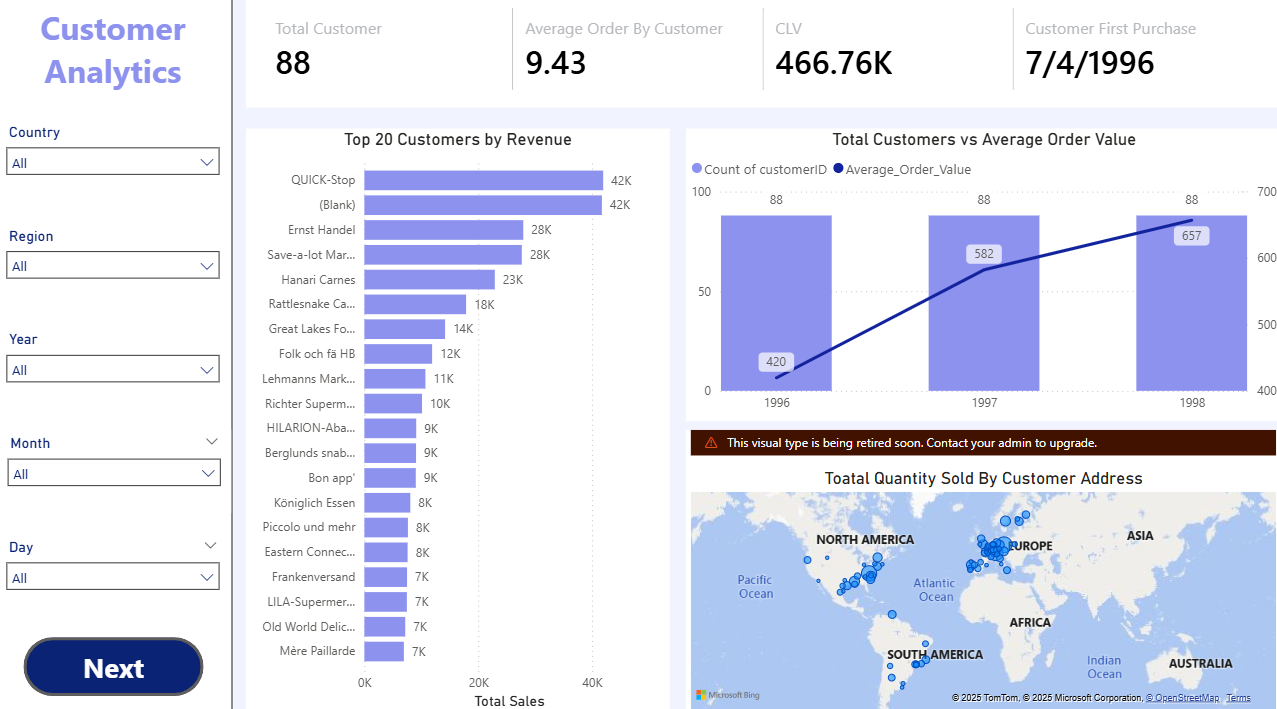

The page's visual inventory and layout, read from the dashboard file:
{"tool":"powerbi","page":{"name":"Page 2","canvas":[1280,720],"ordinal":1},"visuals":[{"type":"cardVisual","fields":{"Data":["Dax Sales.Total Customer","Dax Customer.Average_Order_By_Customer","Dax Customer.CLV","Dax Customer.Customer First Purchase"]},"box":[248.8,0,1031.2,115.7],"z":0},{"type":"shape","box":[2.5,0,232.6,720.3],"z":1000},{"type":"textbox","box":[0,10,232.6,95.8],"z":2000},{"type":"slicer","fields":{"Values":["Dim Customers.country"]},"box":[0,126.9,232.6,82.1],"z":3000},{"type":"slicer","fields":{"Values":["Dim Customers.region"]},"box":[0,230.1,232.6,82.1],"z":4000},{"type":"actionButton","title":"vvf","box":[27.4,643.1,179.1,58.5],"z":5000},{"type":"clusteredBarChart","title":"Top 20 Customers by Revenue","fields":{"Y":["Dax Sales.Total Sales"],"Category":["Dim Customers.companyName"]},"box":[248.7,137.2,421.8,583.3],"z":6000},{"type":"slicer","fields":{"Values":["Dim Order Date.Year"]},"box":[0,333.4,232.6,82.1],"z":7000},{"type":"slicer","fields":{"Values":["Dim Order Date.Month"]},"box":[1.2,436.6,232.6,82.1],"z":8000},{"type":"slicer","fields":{"Values":["Dim Order Date.Day"]},"box":[0,539.9,232.6,82.1],"z":9000},{"type":"lineClusteredColumnComboChart","title":"Total Customers vs Average Order Value","fields":{"Y":["CountNonNull(Dim Customers.customerID)"],"Y2":["Dax Sales.Average_Order_Value"],"Category":["Dim Order Date.orderDate Hierarchy.Year","Dim Order Date.orderDate Hierarchy.Quarter","Dim Order Date.orderDate Hierarchy.Month"]},"box":[687.2,137.2,593.6,291],"z":10000},{"type":"map","title":"Total Quantity Sold By Customer Address","fields":{"Size":["Dax Sales.Toatal Quantity Sold"],"Category":["Dim Customers.address"]},"box":[687.2,437.2,592.3,283.3],"z":11000}]}

Visuals, with their boxes in screenshot pixels (x1, y1, x2, y2), scaled from the page's 1280x720 canvas onto the 1277x709 screenshot:
cardVisual - Dax Sales.Total Customer x Dax Customer.Average_Order_By_Customer: BBox(248, 0, 1276, 114)
shape: BBox(2, 0, 235, 708)
textbox: BBox(0, 10, 232, 104)
slicer - Dim Customers.country: BBox(0, 125, 232, 206)
slicer - Dim Customers.region: BBox(0, 227, 232, 307)
"vvf" actionButton: BBox(27, 633, 206, 691)
"Top 20 Customers by Revenue" clusteredBarChart: BBox(248, 135, 669, 708)
slicer - Dim Order Date.Year: BBox(0, 328, 232, 409)
slicer - Dim Order Date.Month: BBox(1, 430, 233, 511)
slicer - Dim Order Date.Day: BBox(0, 532, 232, 612)
"Total Customers vs Average Order Value" lineClusteredColumnComboChart: BBox(686, 135, 1276, 422)
"Total Quantity Sold By Customer Address" map: BBox(686, 431, 1276, 708)
